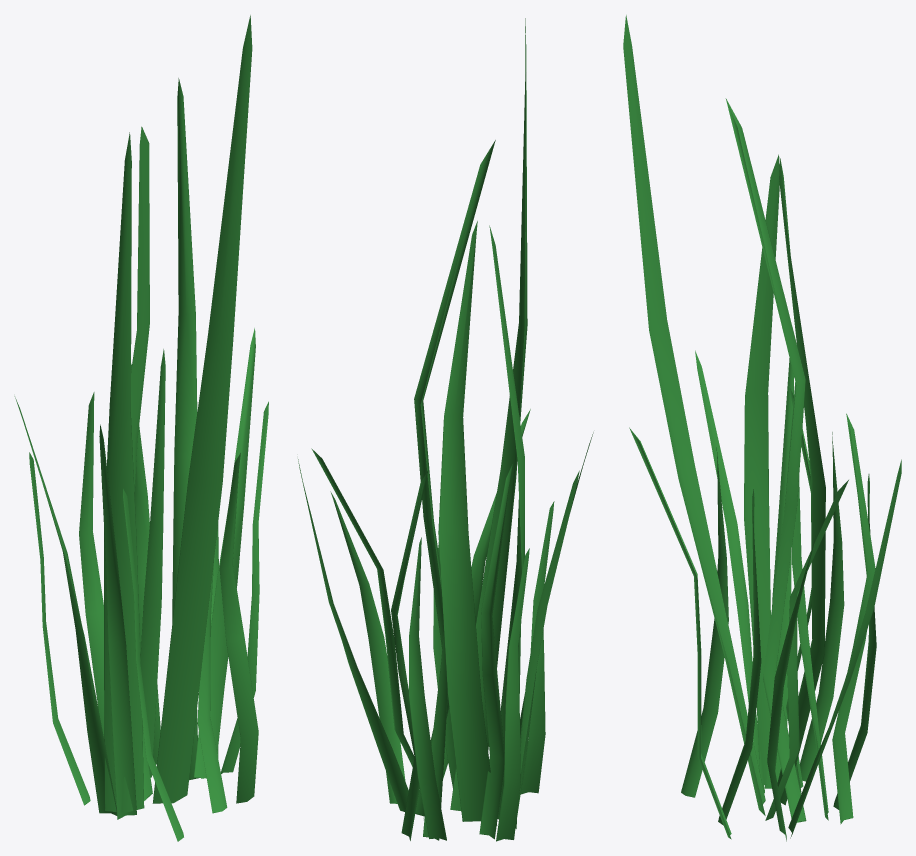
Rendered from SM_Herbe1.fbx.
The picture shows the model from 3 angles, left to right: view 1: azimuth 30°, elevation 25°; view 2: azimuth 150°, elevation 25°; view 3: azimuth 270°, elevation 25°; orthographic projection. The views are drawn at different scales.
Visible parts, largest first — view 1: SM_Herbe_02; view 2: SM_Herbe_02; view 3: SM_Herbe_02.
Boxes of the visible parts, x1,y1,x2,y2 form: SM_Herbe_02: (14,15,268,841); SM_Herbe_02: (298,18,593,841); SM_Herbe_02: (623,15,901,841).
Bounding box in the file's own units: 9.84 × 9.21 × 29.34.
1 material, 1 textured.
